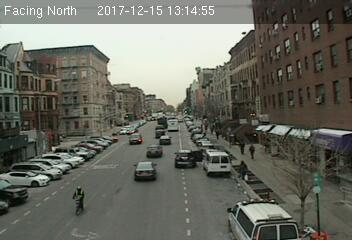bicycle: (73, 186, 87, 216)
car: (133, 160, 157, 180), (174, 150, 201, 166), (146, 145, 162, 158), (129, 133, 142, 144), (158, 135, 172, 144)
pedestrian: (238, 161, 247, 182), (247, 144, 255, 161), (239, 139, 245, 155)
police: (226, 197, 301, 240)
truck: (205, 150, 230, 174), (166, 119, 179, 132)
